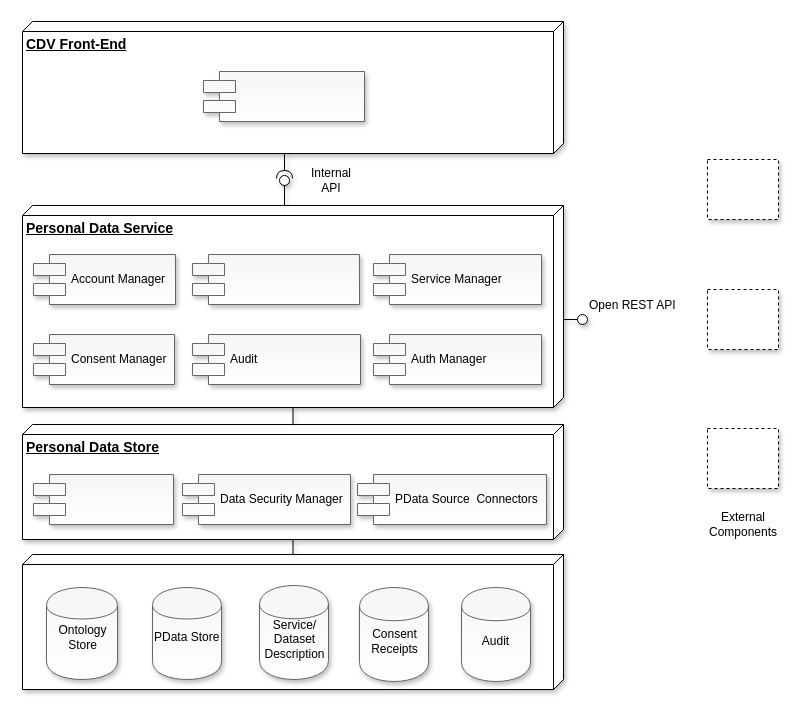
The diagram is 802 pixels wide and 713 high, and some of its shapes have lost their labels. Here are the shapes that lost their labels. From the top down, the centre of each, then its label:
[284,97]: CDV Dashboard
[277,281]: PData Manager
[104,501]: PData Repository
